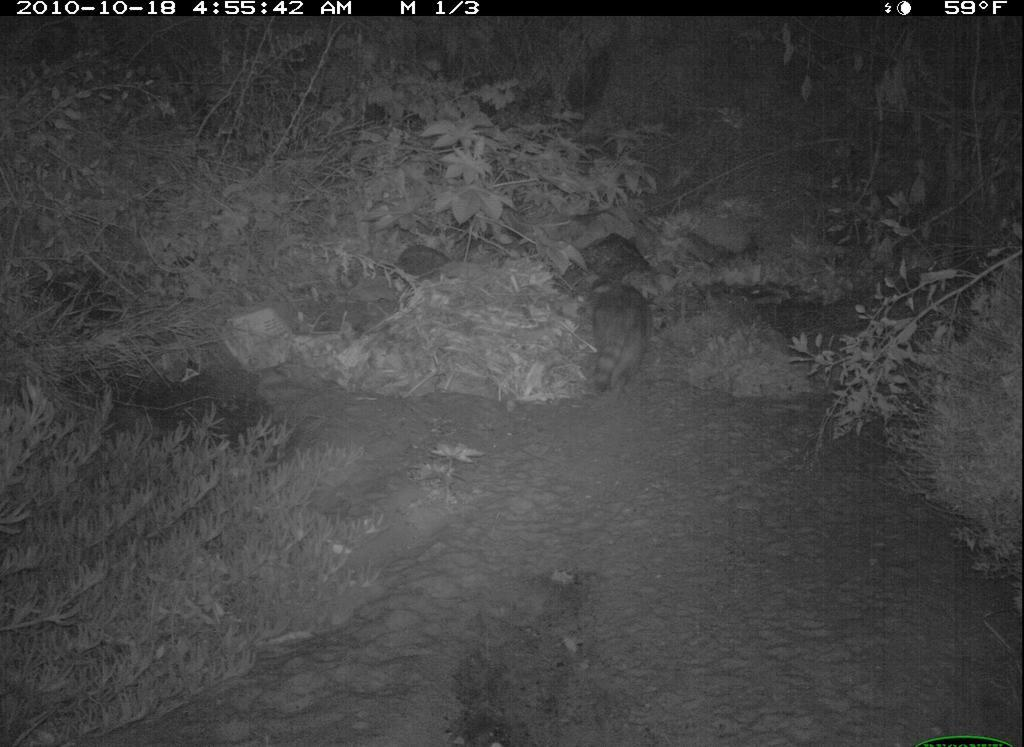raccoon: (585, 273, 661, 399)
